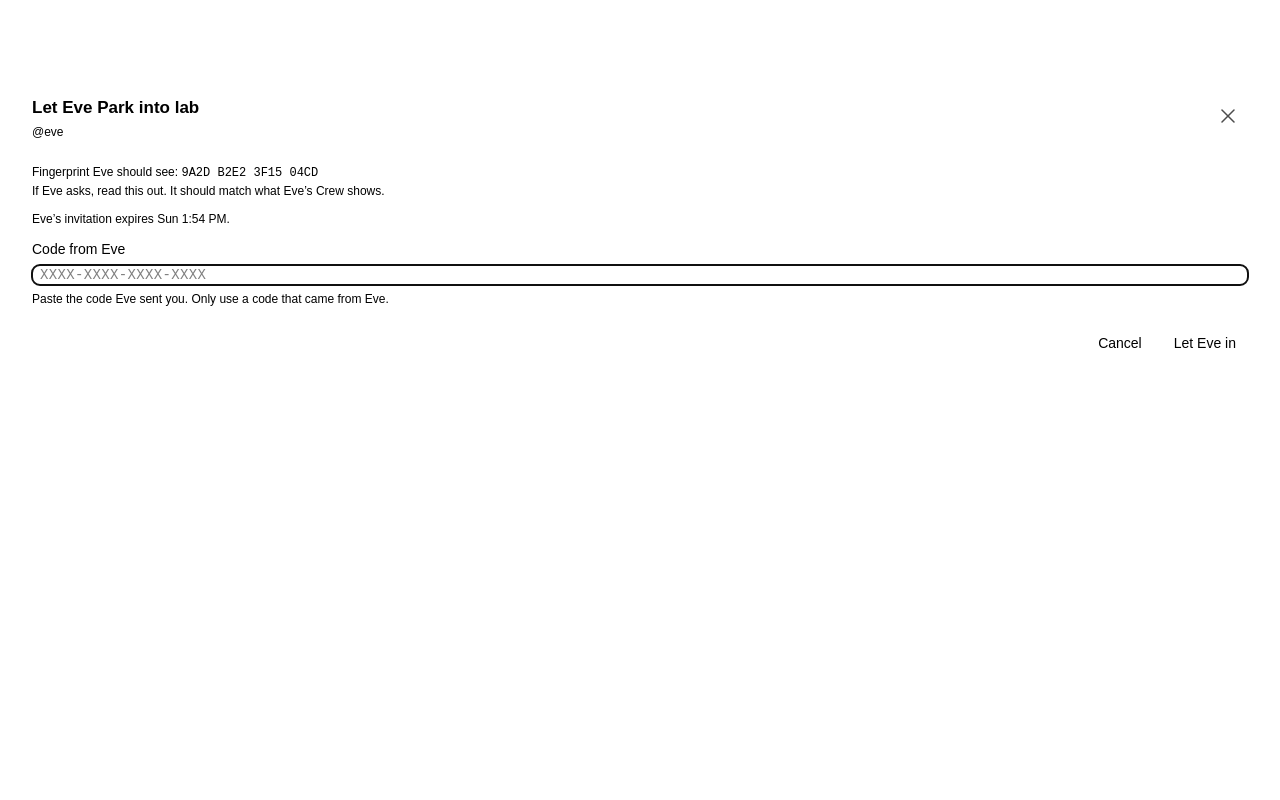
Scenario: LetInDialog, round 4 (QA Q4-36, Q4-38) › says when their invitation expires while the code is awaited, under the fingerprint (QA Q4-36)
The width and height of the screenshot is (1280, 800).
Type "7QK2M9XA3JTPWZ4D" into the field labelled "Code from Eve".
click(640, 275); type("7QK2M9XA3JTPWZ4D")  # box x1=32 y1=265 x2=1248 y2=285
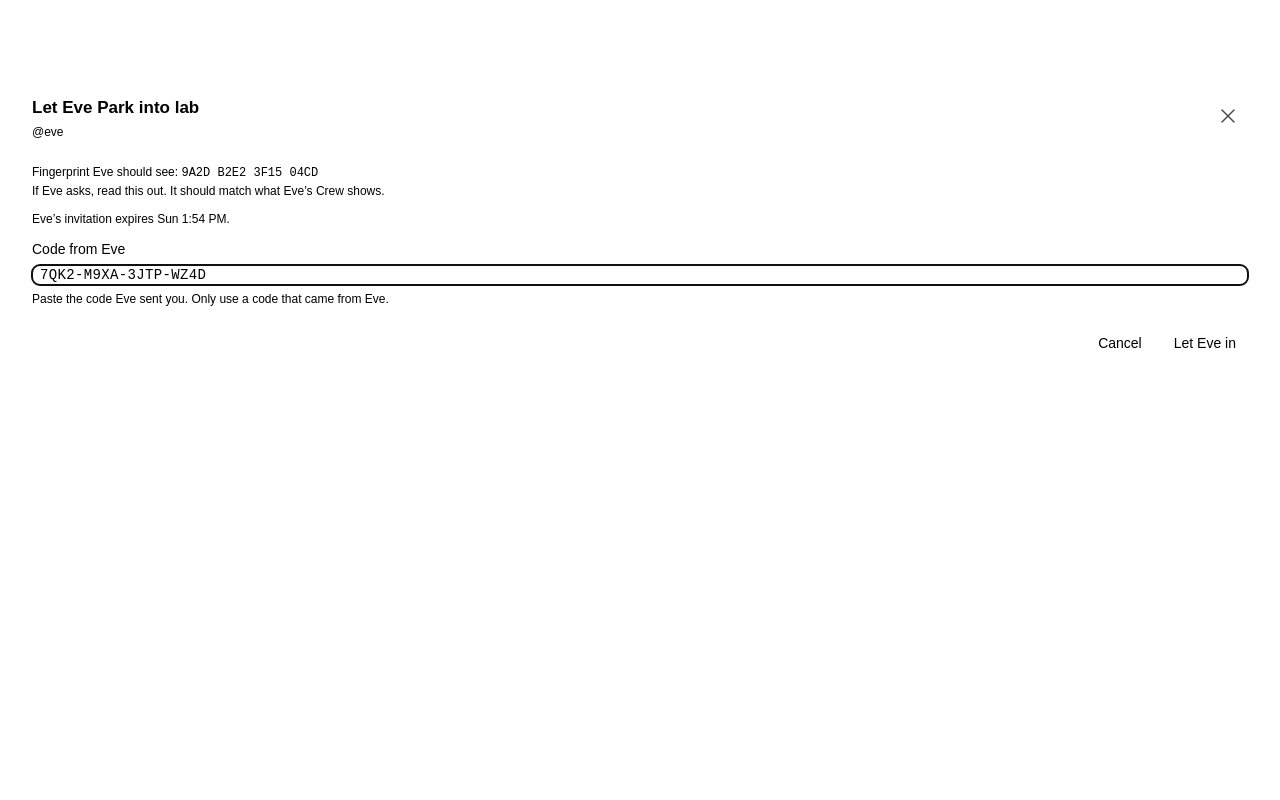
Click the button "Let Eve in".
click(1205, 343)  # box x1=1162 y1=333 x2=1248 y2=353
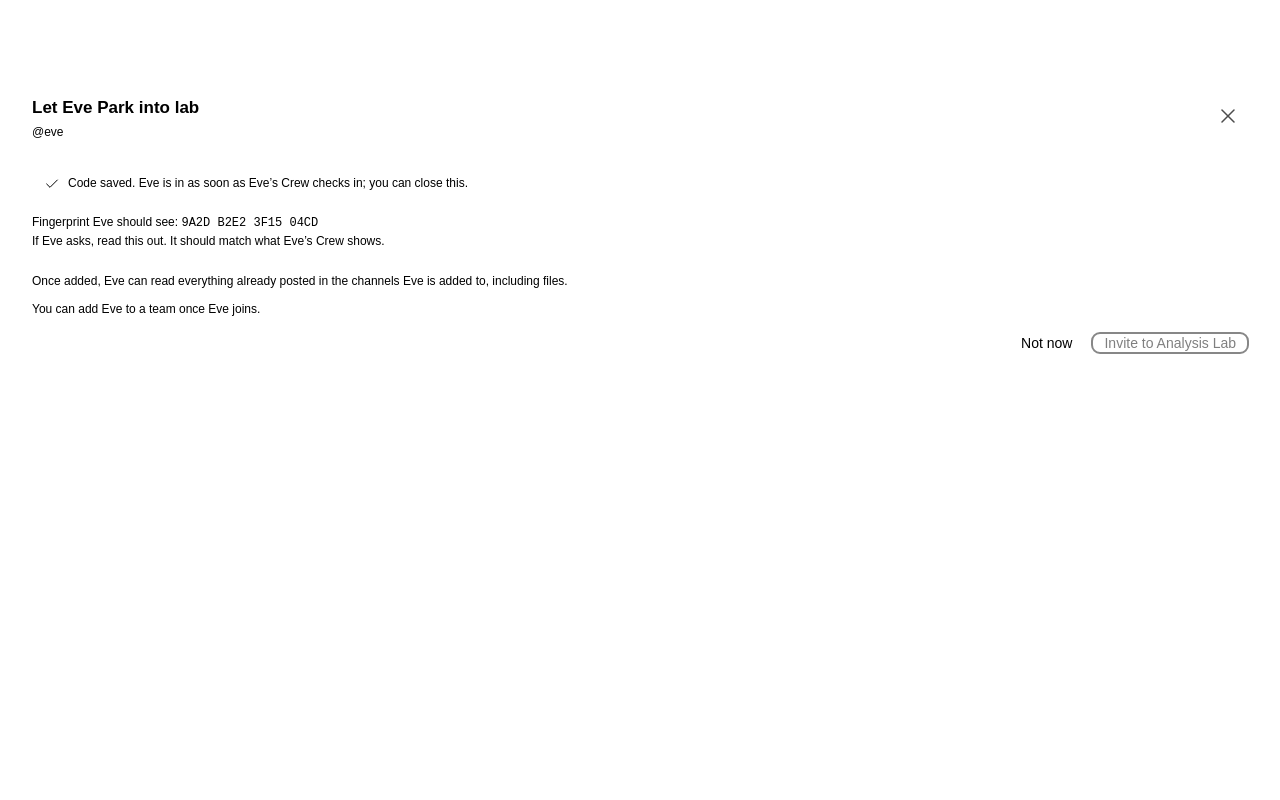
Expected: the text "Code saved. Eve is in as soon as Eve’s Crew checks in; you can close this." is shown, x1=68 y1=176 x2=468 y2=190
Expected: the text "invitation expires" is gone
